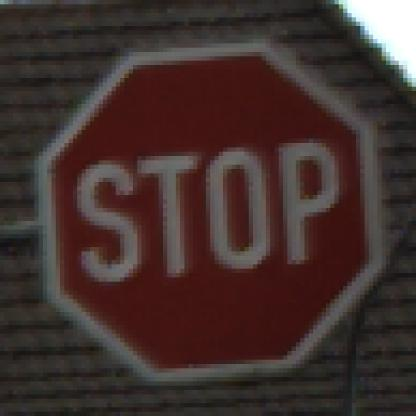stop: (35, 46, 388, 384)
